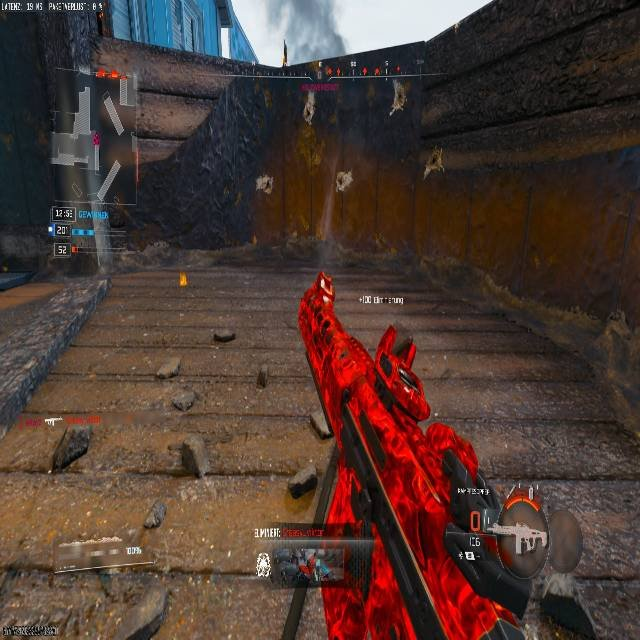head: (490, 500, 548, 579), (375, 325, 416, 371)
